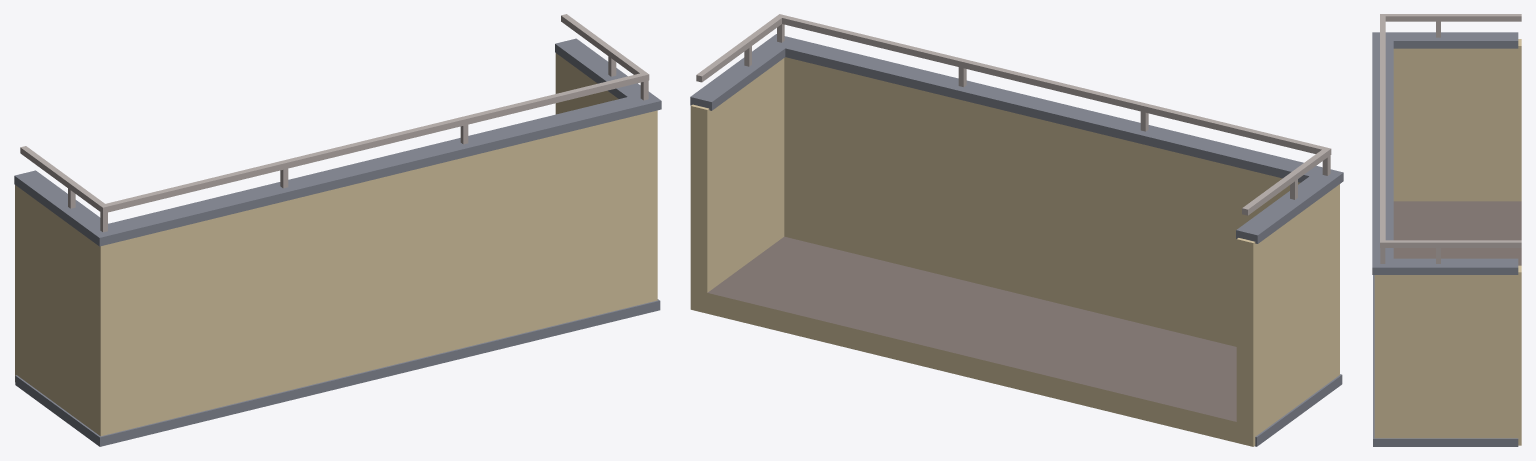
File: SM_Fixture_BalconyShort25620_Yellow_01.gltf
3 views of the same model, side by side, from view 1: azimuth 30°, elevation 25°; view 2: azimuth 150°, elevation 25°; view 3: azimuth 270°, elevation 25° (orthographic). The views are drawn at different scales.
Parts seen in each view (by area): view 1: SM_Fixture_BalconyShort25620_Yellow_01; view 2: SM_Fixture_BalconyShort25620_Yellow_01; view 3: SM_Fixture_BalconyShort25620_Yellow_01.
Boxes of the visible parts, x1,y1,x2,y2 form: SM_Fixture_BalconyShort25620_Yellow_01: [14, 14, 661, 446]; SM_Fixture_BalconyShort25620_Yellow_01: [690, 14, 1343, 446]; SM_Fixture_BalconyShort25620_Yellow_01: [1372, 14, 1521, 446].
Bounding box in the file's own units: 3.41 × 1.36 × 0.915.
Materials: 1 (1 with a texture image).
